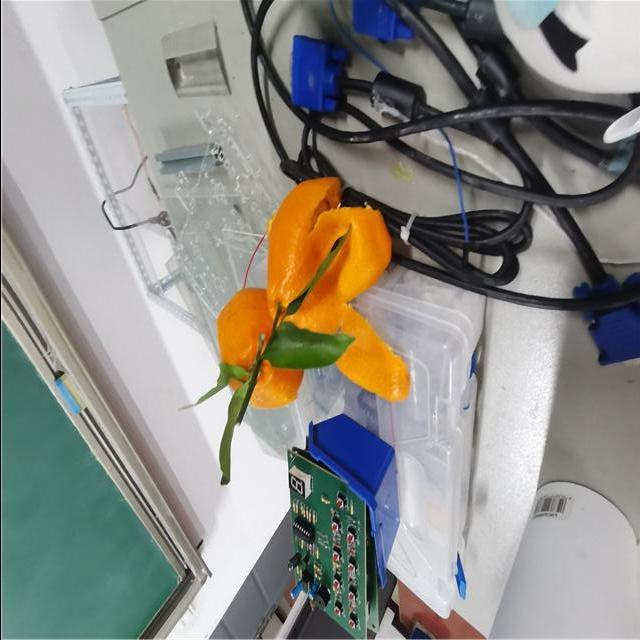orange peel: (266, 176, 406, 402), (215, 287, 302, 409)
